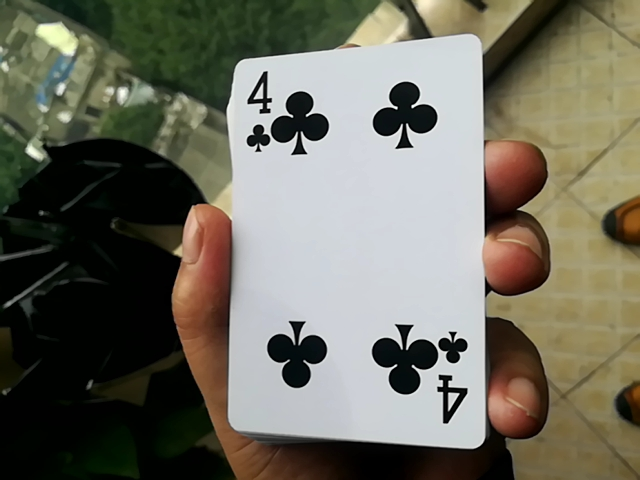mh 4: (226, 22, 477, 451)
